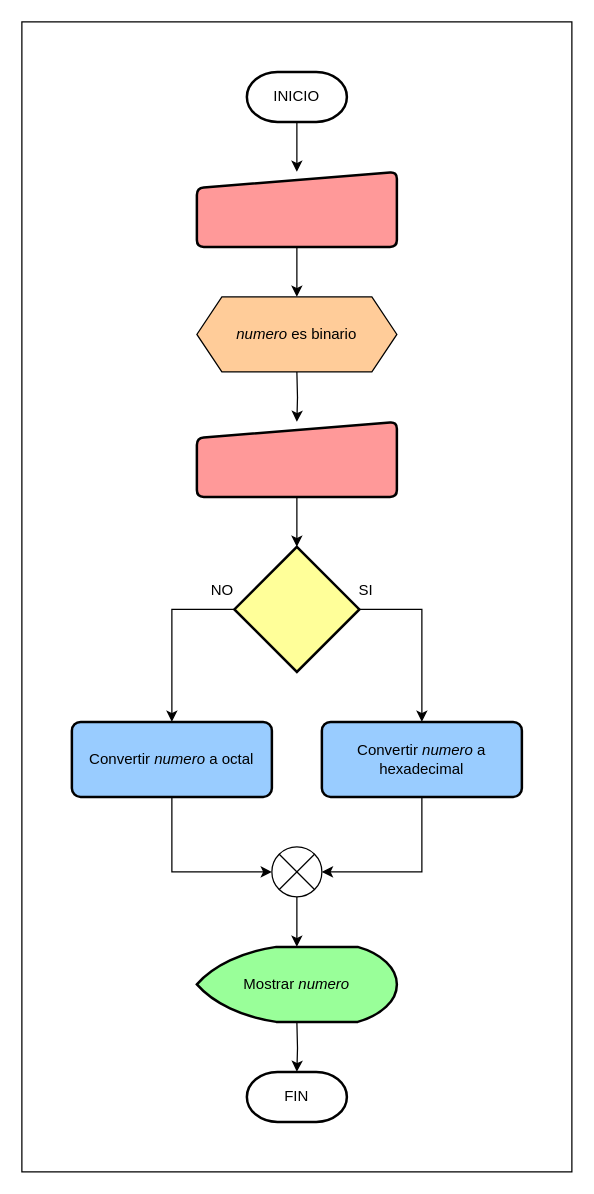
Image size: 594x1194. Some labels were removed from this diagram. Each missing label, with the box of its shape:
Asignar valor a modoConv: (195, 420, 398, 498)
Asignar valor a numero: (195, 170, 398, 248)
modoConv es "Hex": (232, 545, 360, 672)
